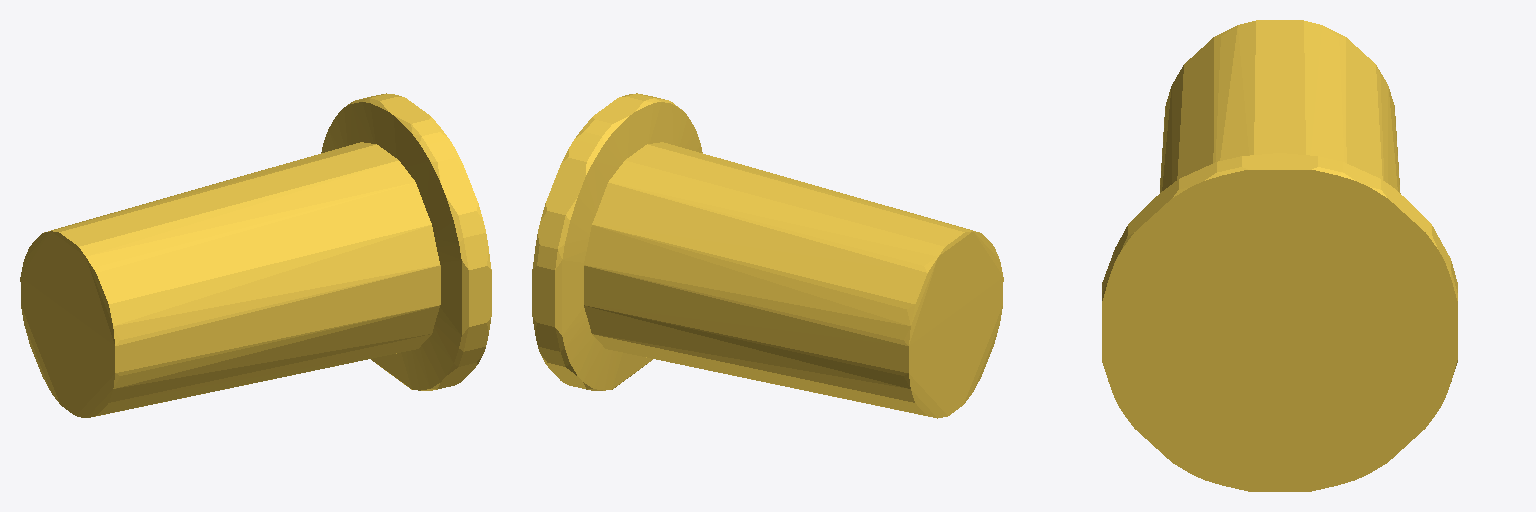
robot.urdf — root:
<robot name="root">
  <link name="link_convex_piece_0">
    <inertial>
      <origin xyz="0 0 0" rpy="0 0 0"/>
      <mass value="3.31E-02"/>
      <inertia ixx="1.55E-05" ixy="-4.02E-10" ixz="3.97E-10" iyy="-3.20E-05" iyz="-3.26E-09" izz="-3.20E-05"/>
    </inertial>
    <visual>
      <origin xyz="0 0 0" rpy="0 0 0"/>
      <geometry>
        <mesh filename="pieces/convex_piece_0.obj" scale="1.0000E+00 1.0000E+00 1.0000E+00"/>
      </geometry>
      <material name="">
        <color rgba="9.80E-01 8.40E-01 3.50E-01 1"/>
      </material>
    </visual>
    <collision>
      <origin xyz="0 0 0" rpy="0 0 0"/>
      <geometry>
        <mesh filename="pieces/convex_piece_0.obj" scale="1.0000E+00 1.0000E+00 1.0000E+00"/>
      </geometry>
    </collision>
  </link>
  <link name="link_convex_piece_1">
    <inertial>
      <origin xyz="0 0 0" rpy="0 0 0"/>
      <mass value="1.67E-01"/>
      <inertia ixx="3.68E-05" ixy="5.39E-09" ixz="2.42E-08" iyy="1.43E-04" iyz="-1.41E-09" izz="1.43E-04"/>
    </inertial>
    <visual>
      <origin xyz="0 0 0" rpy="0 0 0"/>
      <geometry>
        <mesh filename="pieces/convex_piece_1.obj" scale="1.0000E+00 1.0000E+00 1.0000E+00"/>
      </geometry>
      <material name="">
        <color rgba="9.80E-01 8.40E-01 3.50E-01 1"/>
      </material>
    </visual>
    <collision>
      <origin xyz="0 0 0" rpy="0 0 0"/>
      <geometry>
        <mesh filename="pieces/convex_piece_1.obj" scale="1.0000E+00 1.0000E+00 1.0000E+00"/>
      </geometry>
    </collision>
  </link>
  <joint name="link_convex_piece_1_joint" type="fixed">
    <origin xyz="0 0 0" rpy="0 0 0"/>
    <parent link="link_convex_piece_0"/>
    <child link="link_convex_piece_1"/>
  </joint>
</robot>

--- What the picture shows (computed from the rendered views, not written in the file) ---
The picture shows the robot from 3 angles, left to right: view 1: azimuth 30°, elevation 25°; view 2: azimuth 150°, elevation 25°; view 3: azimuth 270°, elevation 25°; orthographic projection.
Model root with 2 links and 1 joints (1 fixed), rooted at link_convex_piece_0, posed all joints at 0.
Visible links, largest first — view 1: link_convex_piece_1, link_convex_piece_0; view 2: link_convex_piece_1, link_convex_piece_0; view 3: link_convex_piece_0, link_convex_piece_1.
Boxes of the visible links, x1,y1,x2,y2 form: link_convex_piece_1: (20,142,440,417); link_convex_piece_0: (321,93,491,390); link_convex_piece_1: (584,142,1003,418); link_convex_piece_0: (532,93,702,390); link_convex_piece_0: (1102,153,1457,491); link_convex_piece_1: (1160,20,1400,193).
Bounding box of the posed robot: 0.0843 × 0.061 × 0.061 m (x, y, z).
Meshes: 2 distinct files referenced, 2 mesh visuals loaded (2 OBJ).
